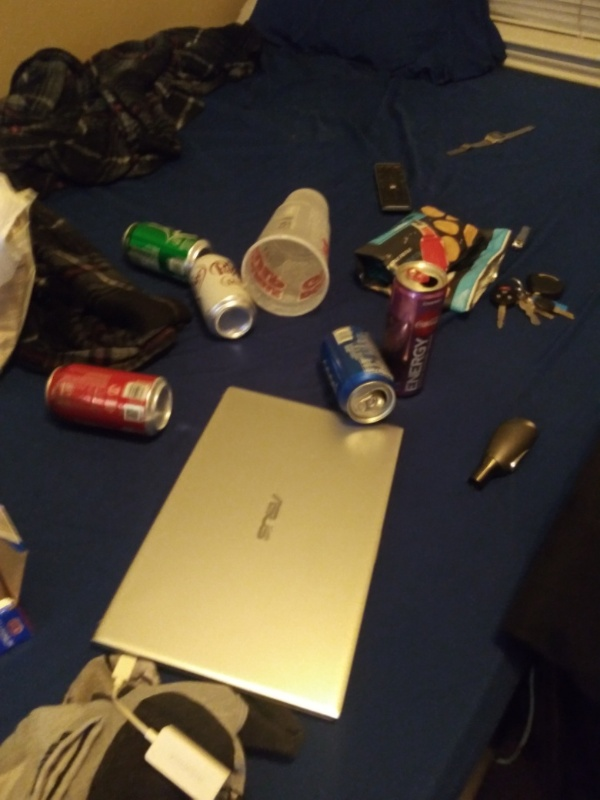can: (39, 359, 174, 441), (376, 258, 451, 399), (315, 322, 399, 428), (185, 253, 258, 343), (117, 217, 211, 283)
